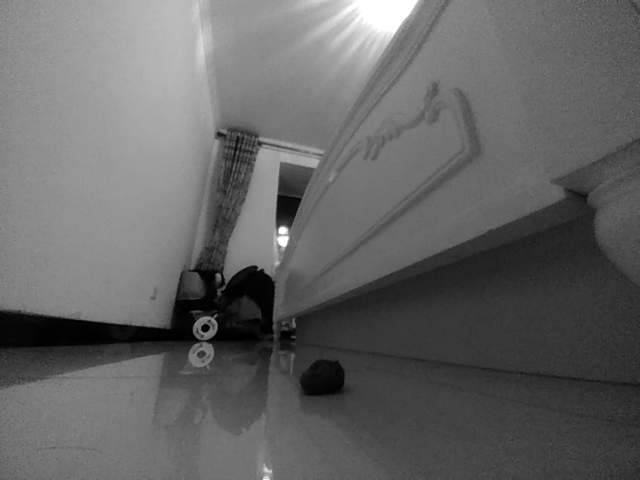curtain: (206, 127, 260, 340)
pet feces: (300, 359, 346, 398)
